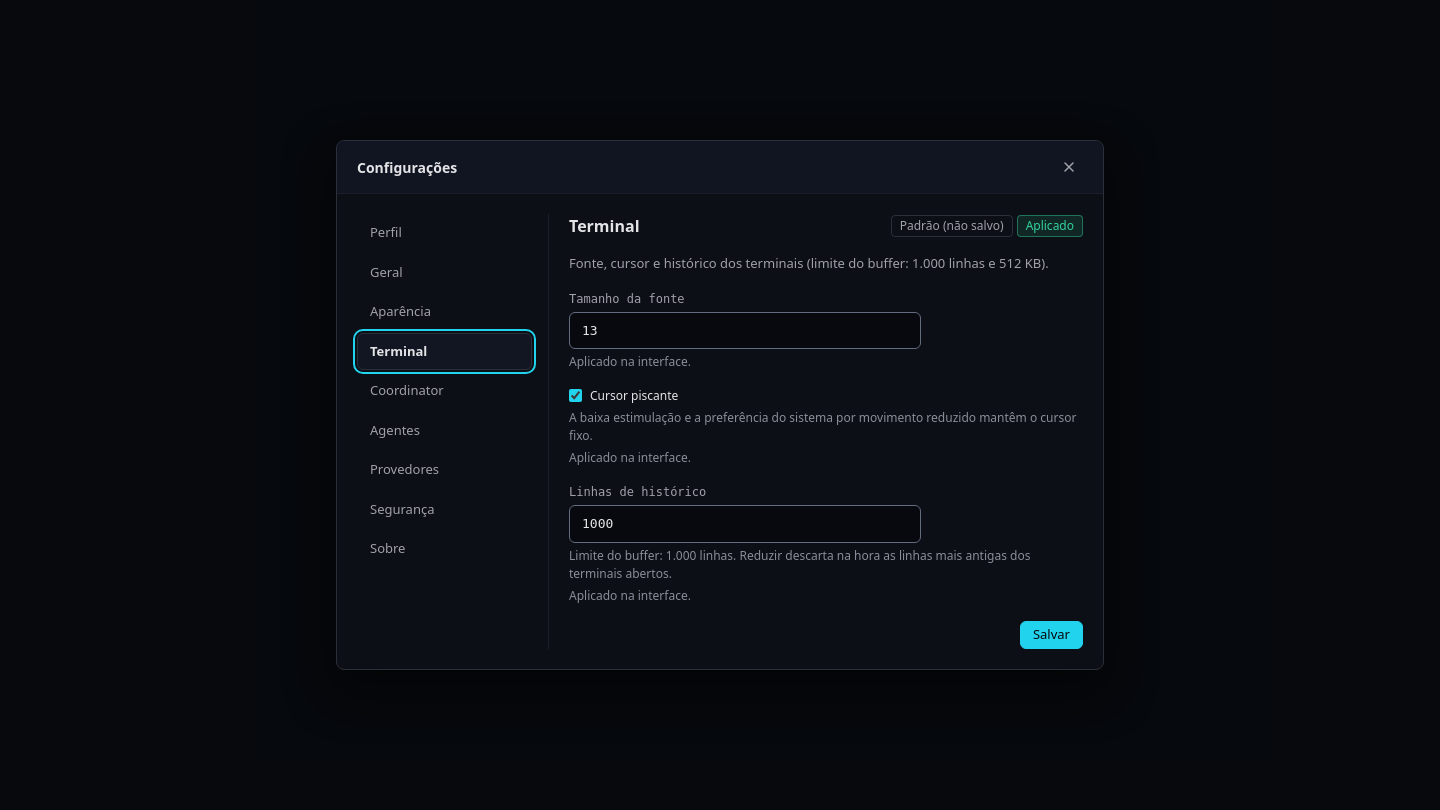
Scenario: SettingsDialog — configurações integradas (Etapa 4) › mostra o erro estruturado do backend no próprio campo e não marca nada como salvo
The width and height of the screenshot is (1440, 810).
Step 1. Replace the text in the number field labelled "Tamanho da fonte" with "99" → (745,331), box top-left (569, 312), bottom-right (921, 349)
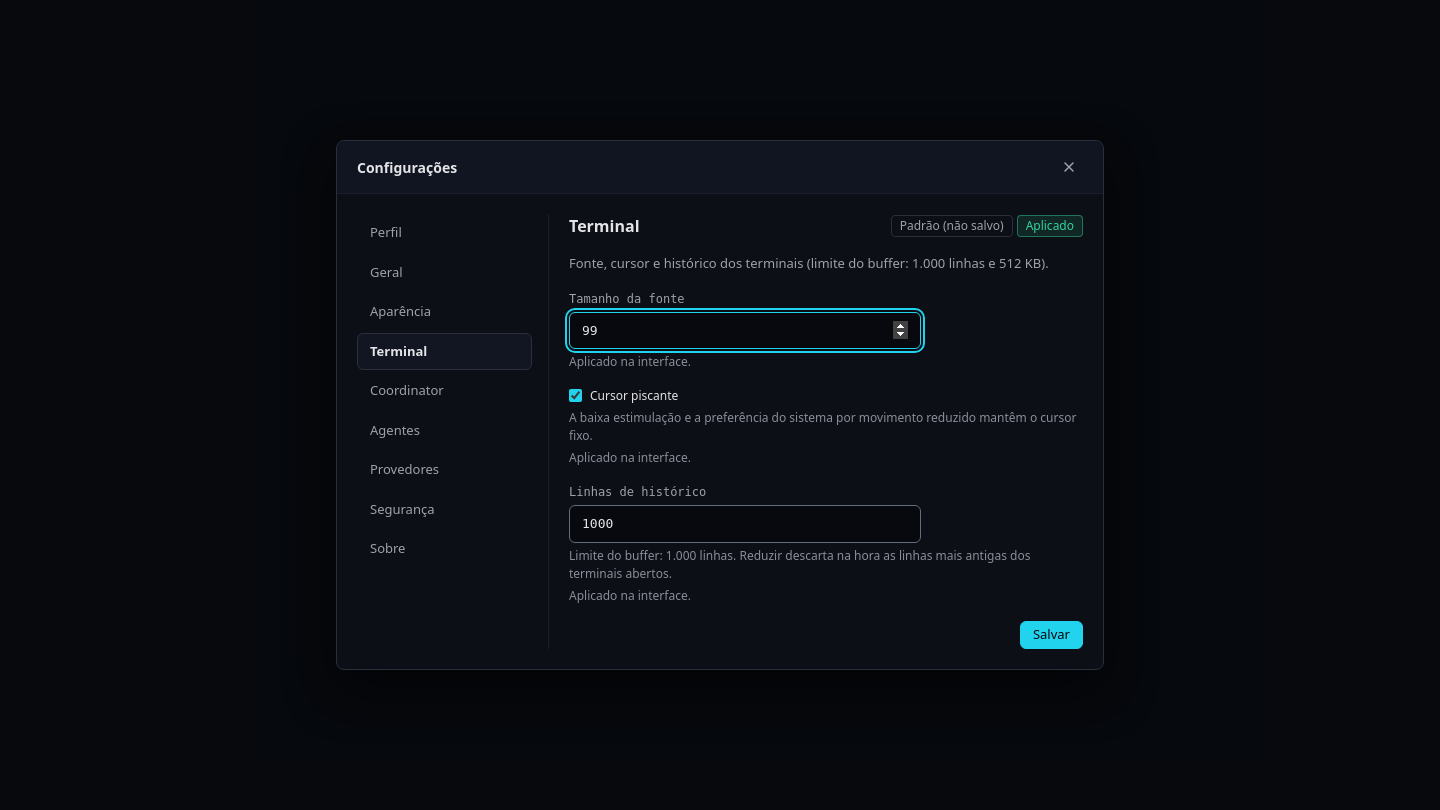
Step 2. Click the button "Salvar" → (1051,635), box top-left (1020, 621), bottom-right (1083, 649)
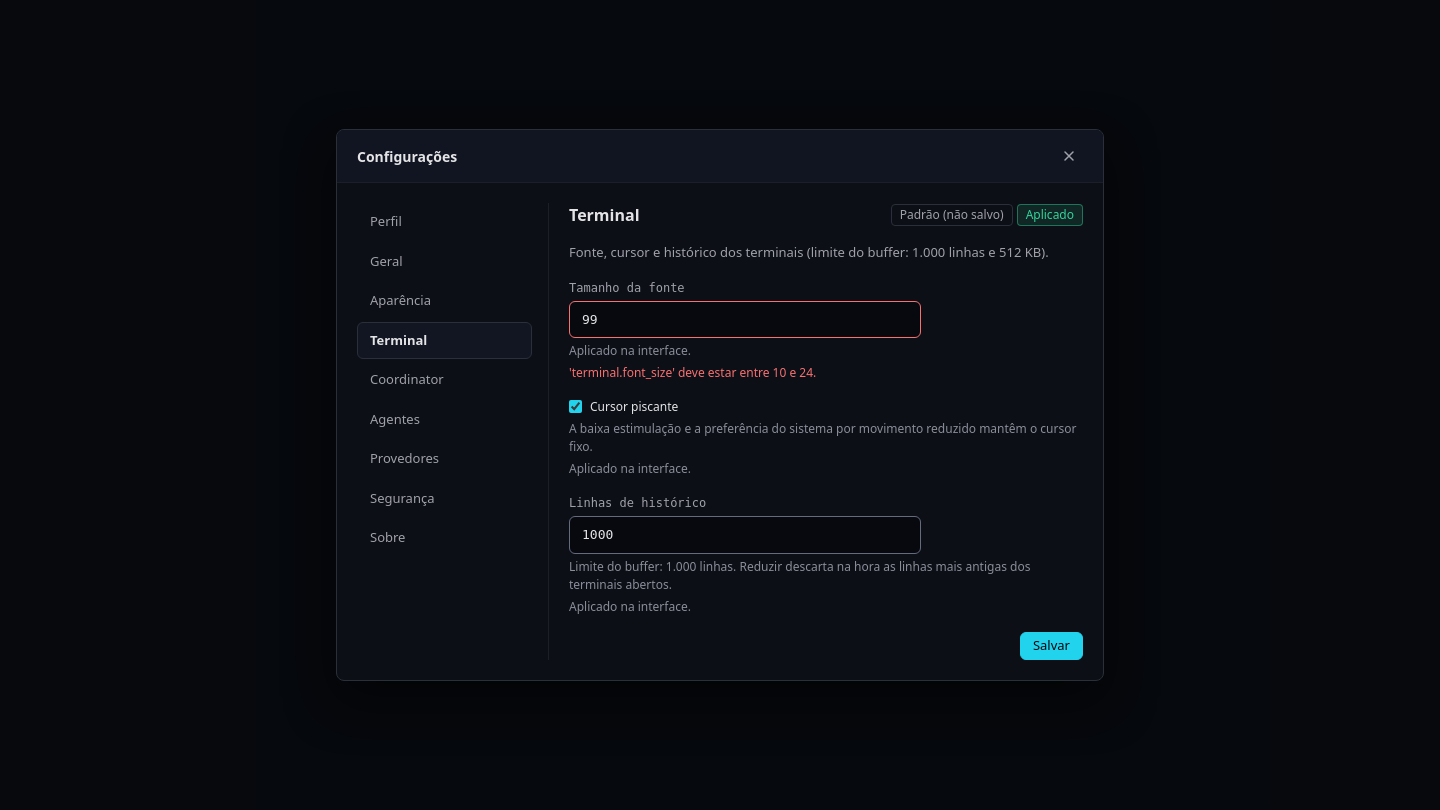
Expected: the text "Padrão (não salvo)" is shown, top-left (891, 204), bottom-right (1013, 226)
Now the text "'terminal.font_size' deve estar entre 10 e 24." is shown, box top-left (569, 364), bottom-right (816, 381)
